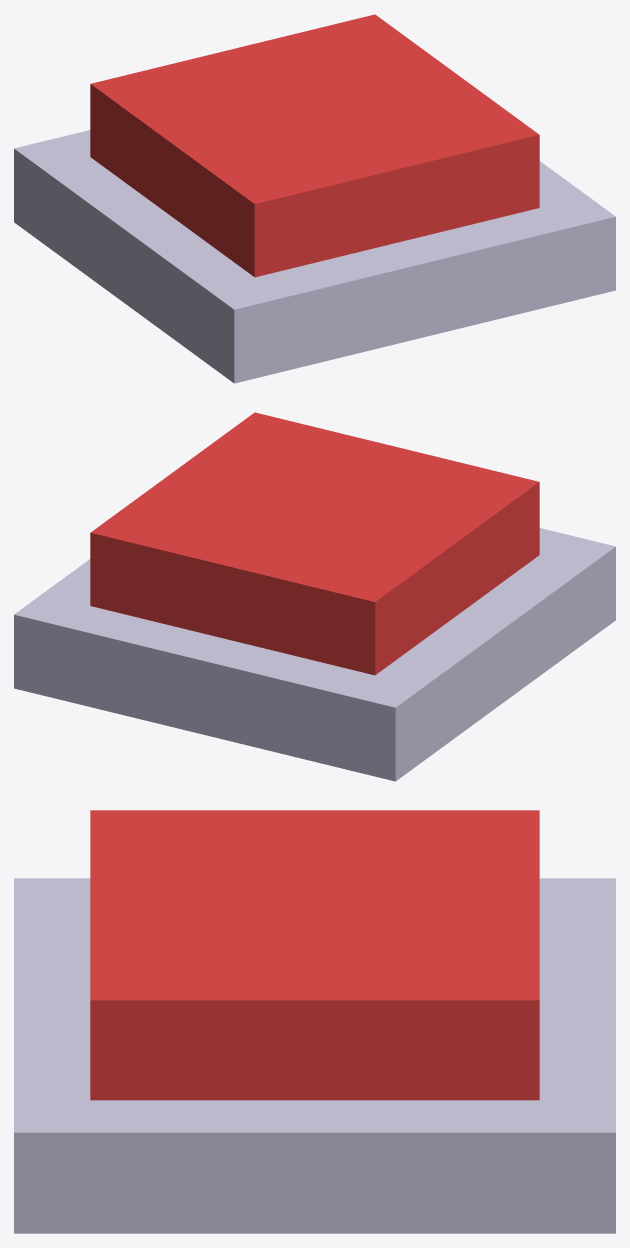
The model's file is button.fbx.
The picture shows the model from 3 angles, top to bottom: view 1: azimuth 30°, elevation 25°; view 2: azimuth 150°, elevation 25°; view 3: azimuth 270°, elevation 25°; orthographic projection. The views are drawn at different scales.
Visible parts, largest first — view 1: Button, ButtonFrame; view 2: Button, ButtonFrame; view 3: Button, ButtonFrame.
Boxes of the visible parts, x1=… form: Button: x1=90, y1=14, x2=539, y2=277; ButtonFrame: x1=14, y1=130, x2=615, y2=383; Button: x1=90, y1=412, x2=539, y2=675; ButtonFrame: x1=14, y1=528, x2=615, y2=781; Button: x1=90, y1=810, x2=539, y2=1100; ButtonFrame: x1=14, y1=878, x2=615, y2=1233.
Size of the model in its own units: 200 by 73.67 by 200.
